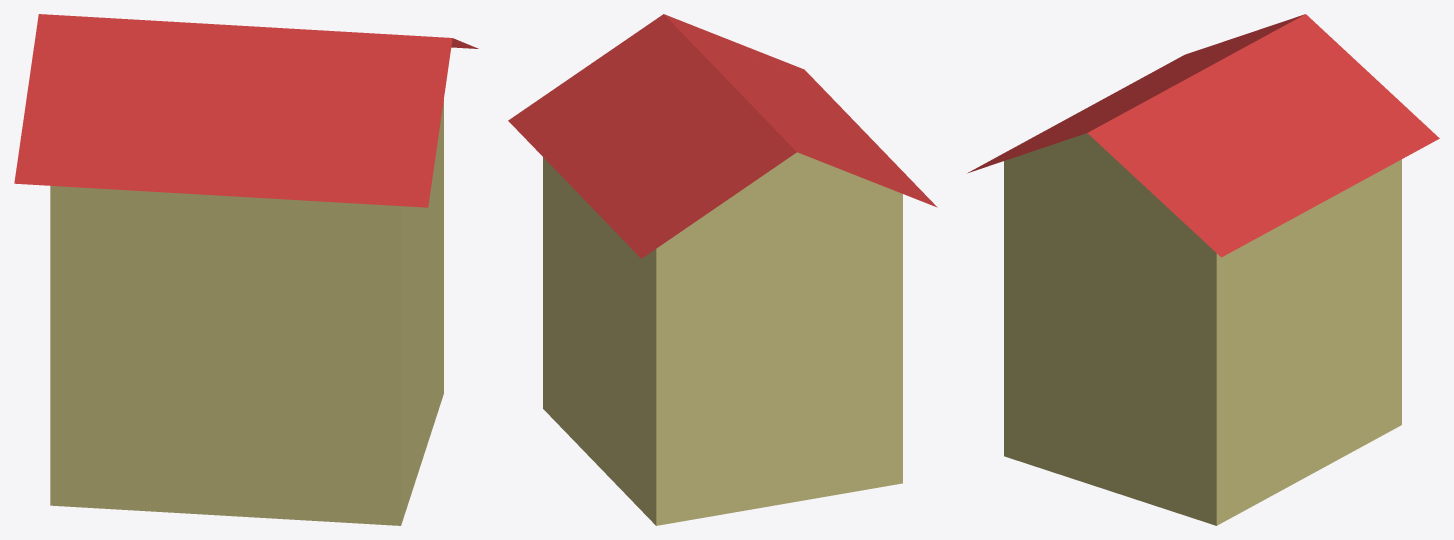
3 views of the same model, side by side, from view 1: azimuth 30°, elevation 25°; view 2: azimuth 150°, elevation 25°; view 3: azimuth 270°, elevation 25° (orthographic). The views are drawn at different scales.
Visible parts, largest first — view 1: group_5, group_3, group_4; view 2: group_5, group_3, group_4; view 3: group_5, group_3, group_4.
Boxes of the visible parts, <box> form: group_5: <box>50,99,443,525</box>; group_3: <box>14,14,478,207</box>; group_4: <box>39,14,452,207</box>; group_5: <box>543,152,902,525</box>; group_3: <box>543,14,937,230</box>; group_4: <box>508,14,880,258</box>; group_5: <box>1004,133,1401,525</box>; group_3: <box>972,14,1401,228</box>; group_4: <box>967,14,1439,257</box>.
Size of the model in its own units: 13.25 by 13.09 by 11.12.
